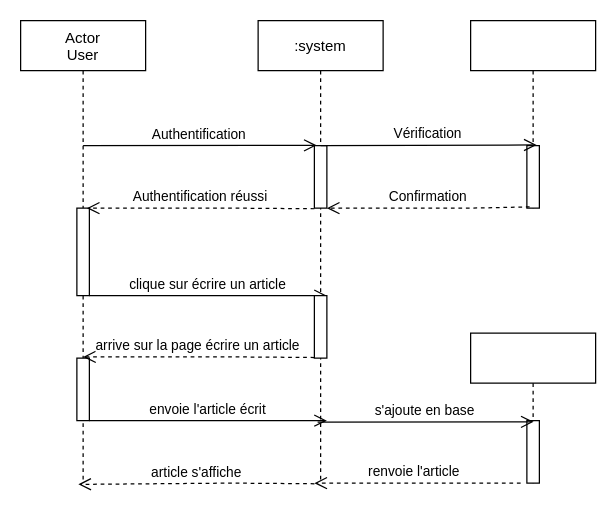
This 616x510 diagram has some shape labels left out. Each missing label, with the centre of its shape:
":trick" goes at pixel 532 407.
":user" goes at pixel 532 113.
